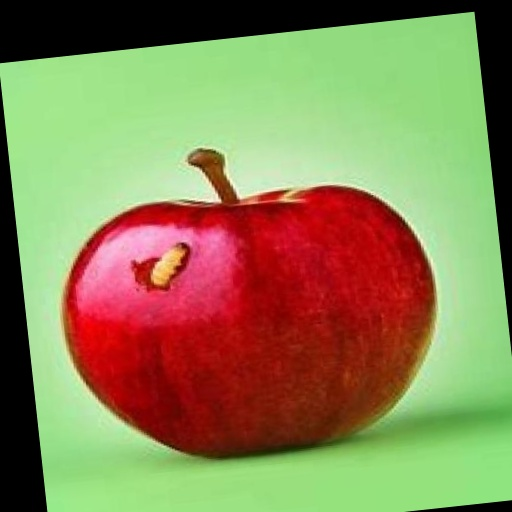fruit: (63, 149, 434, 455)
